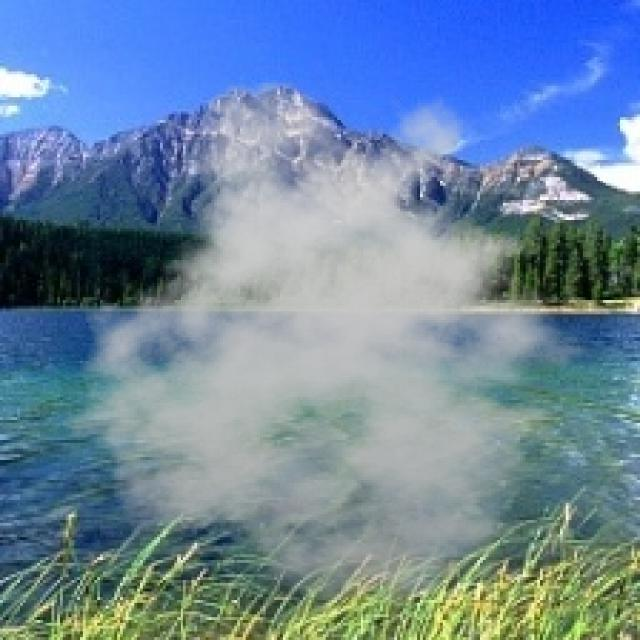smoke: (52, 77, 617, 606)
